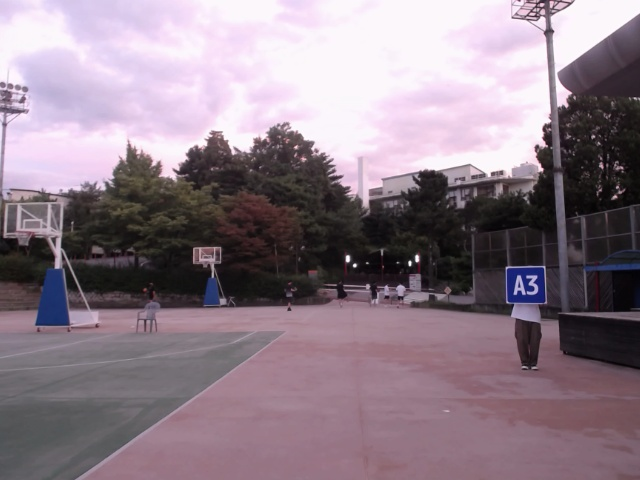delivery_a3: (506, 267, 547, 304)
